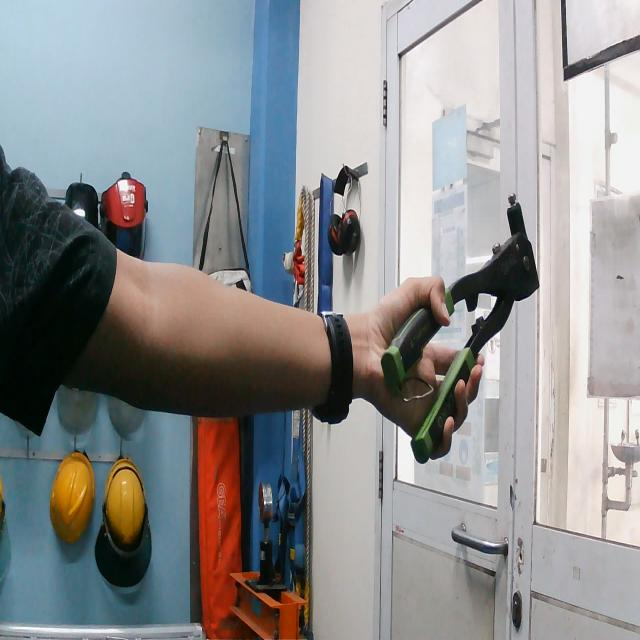tang_rivet: (377, 177, 548, 471)
